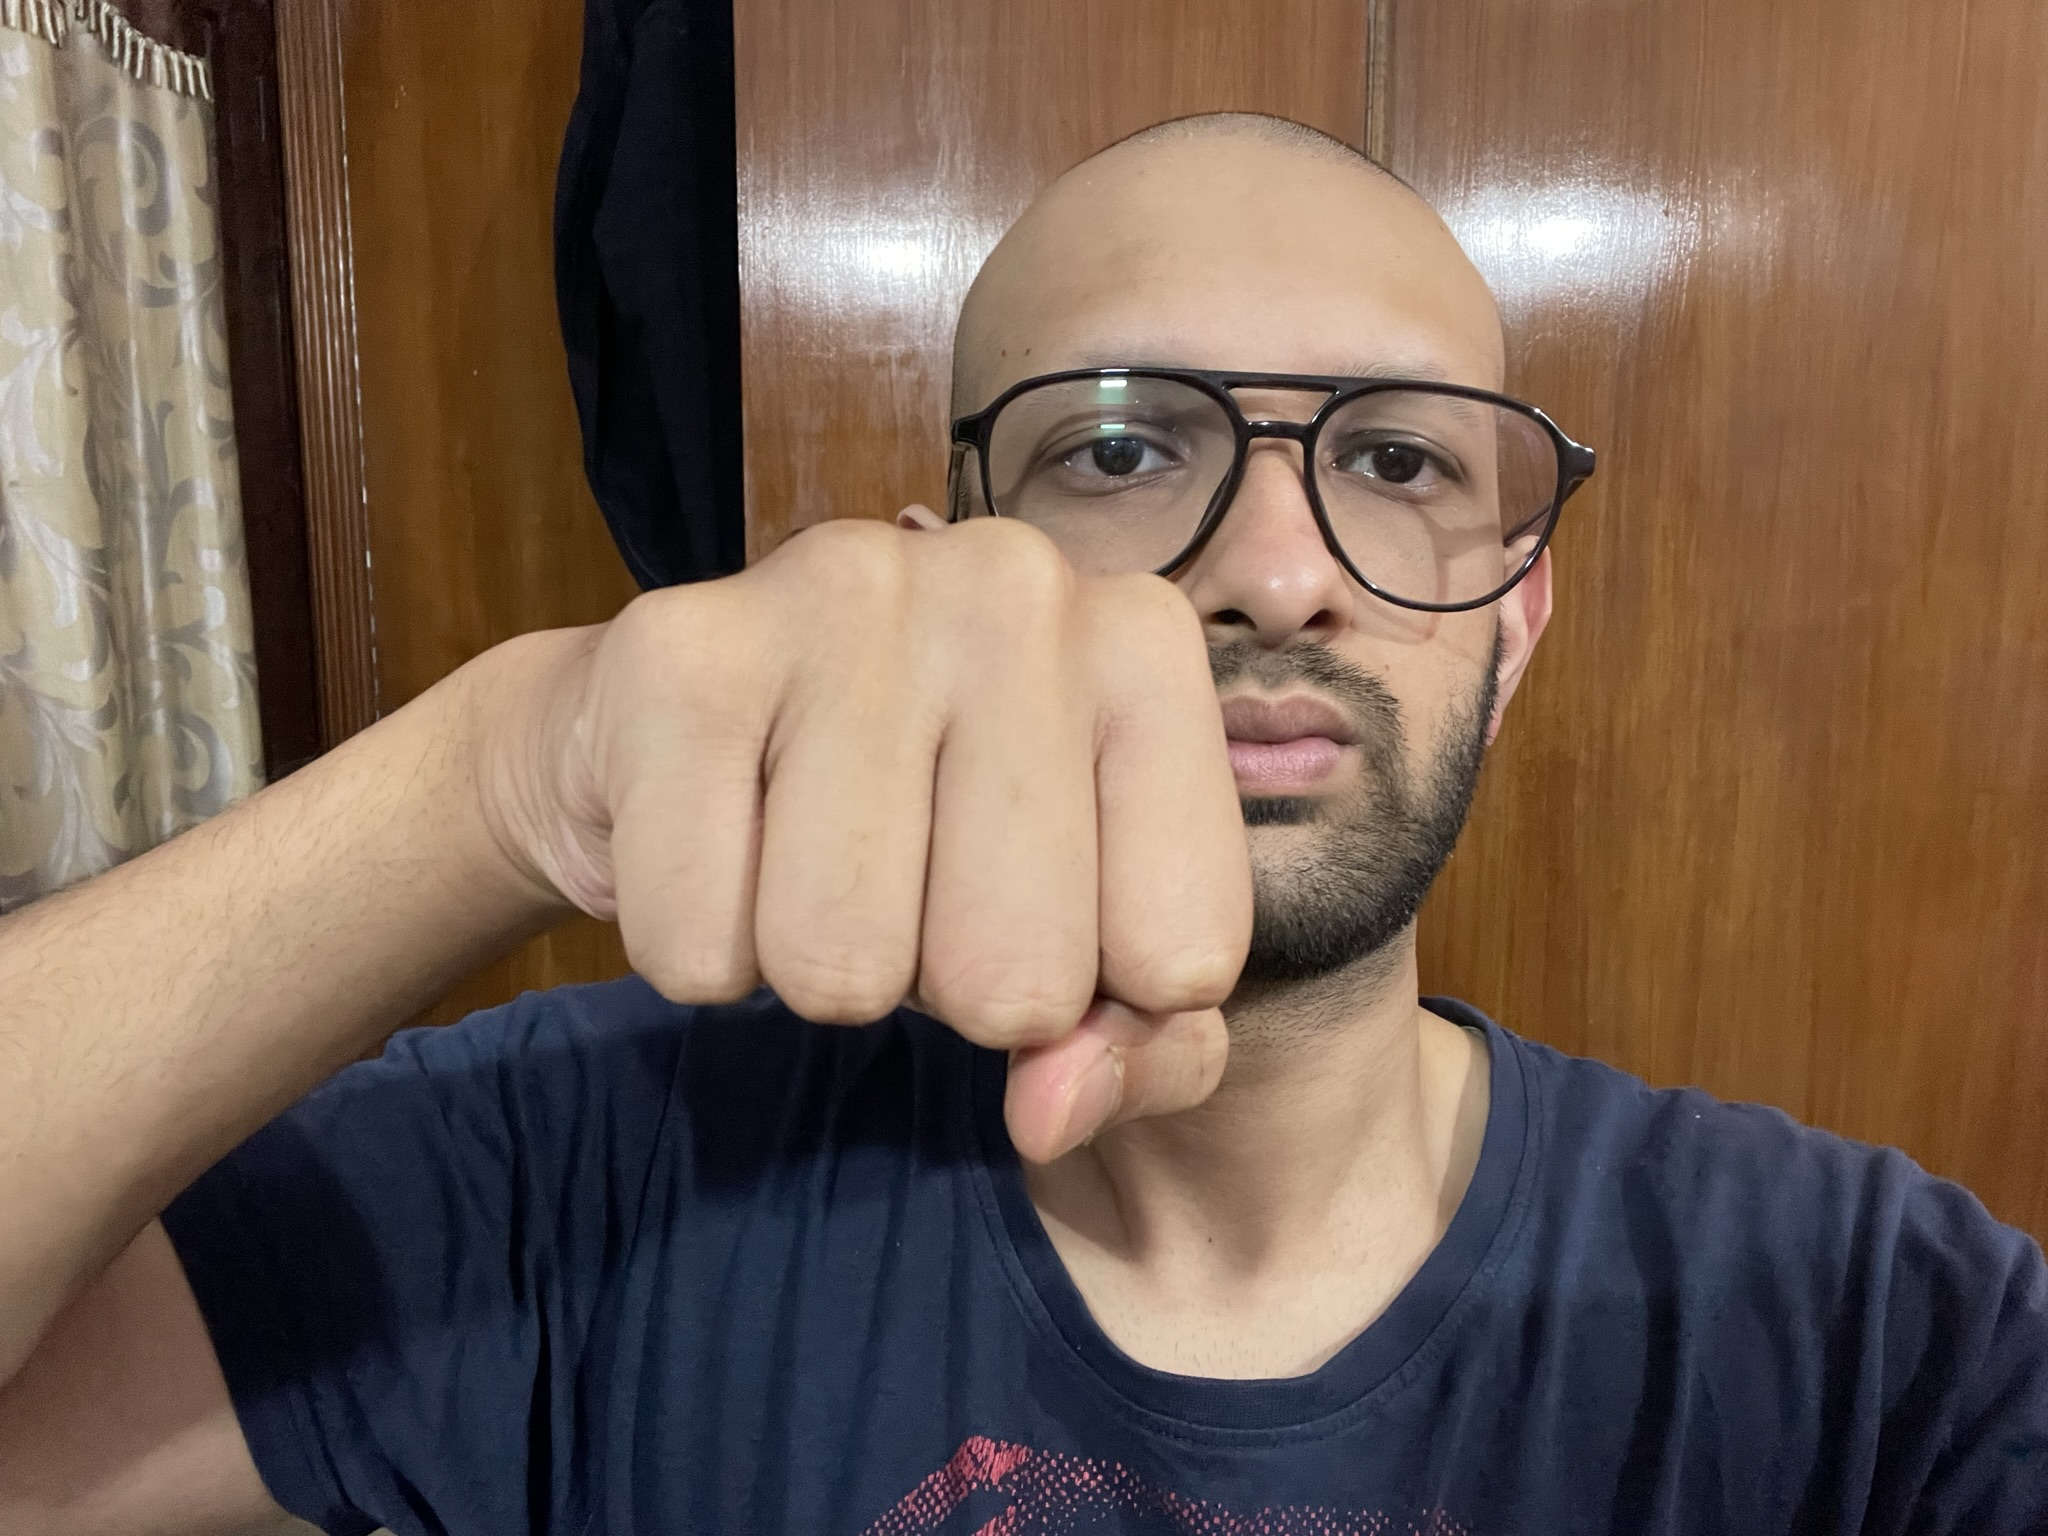Yes: (590, 502, 1261, 1173)
